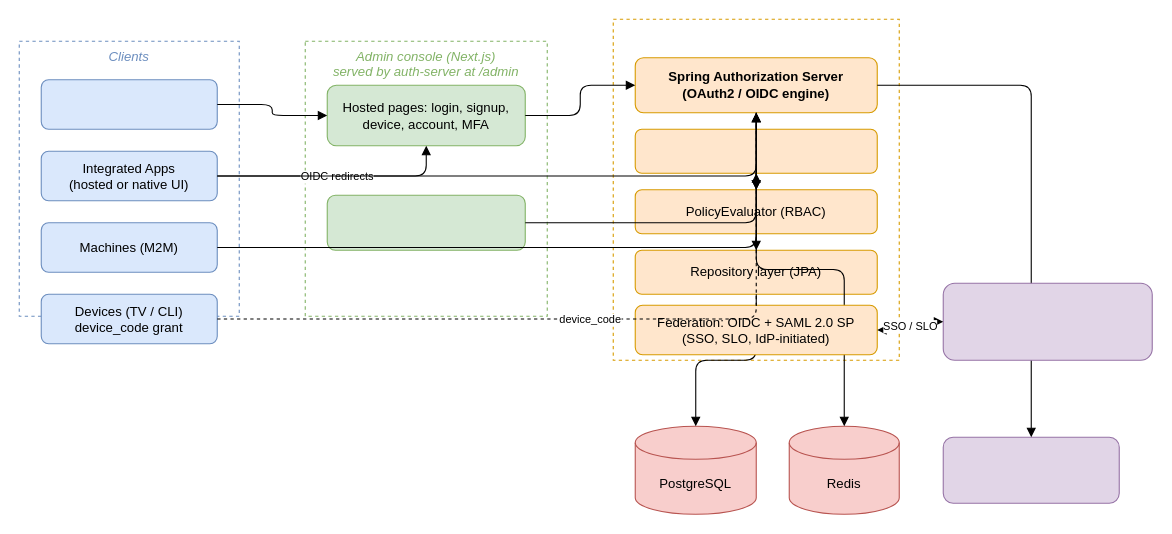
The diagram is 1172 pixels wide and 534 high, and some of its shapes have lost their labels. The box of each missing label's shape, as (x1, y1, x2, y2) in pixels:
Admin Dashboard: (326, 194, 525, 250)
auth-server (Spring Boot): (612, 18, 899, 360)
End Users / Browser: (40, 79, 217, 129)
External IdPs Google, GitHub, OIDC, SAML 2.0 company IdPs: (942, 282, 1152, 360)
Secrets Manager / KMS (SECUREONE_ENCRYPTION_KEY, JWT + SAML SP keys): (942, 436, 1119, 503)
Tenant / User / Role APIs: (634, 128, 877, 173)
